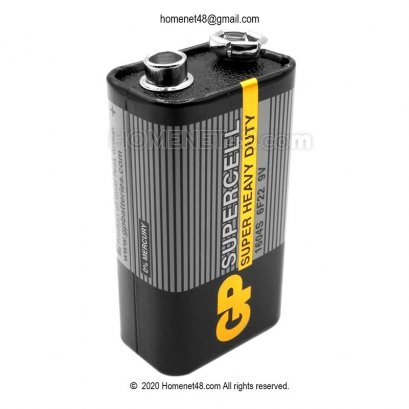Battery: (103, 27, 300, 378)
